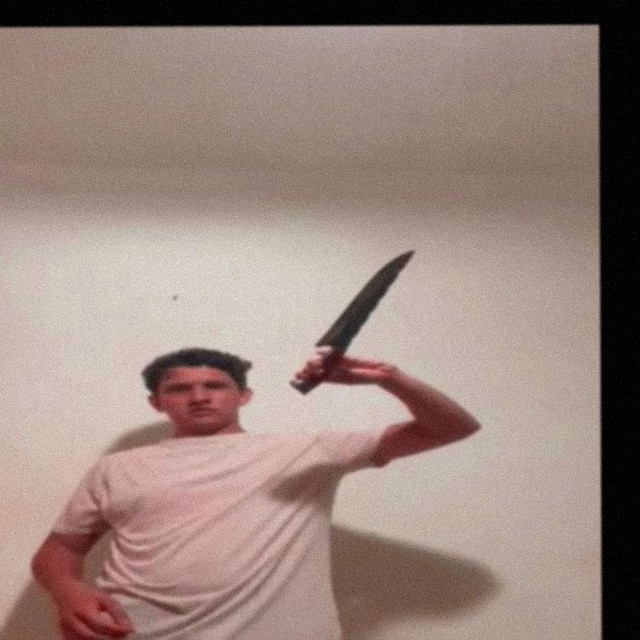Sharp-Object: (311, 250, 417, 349)
